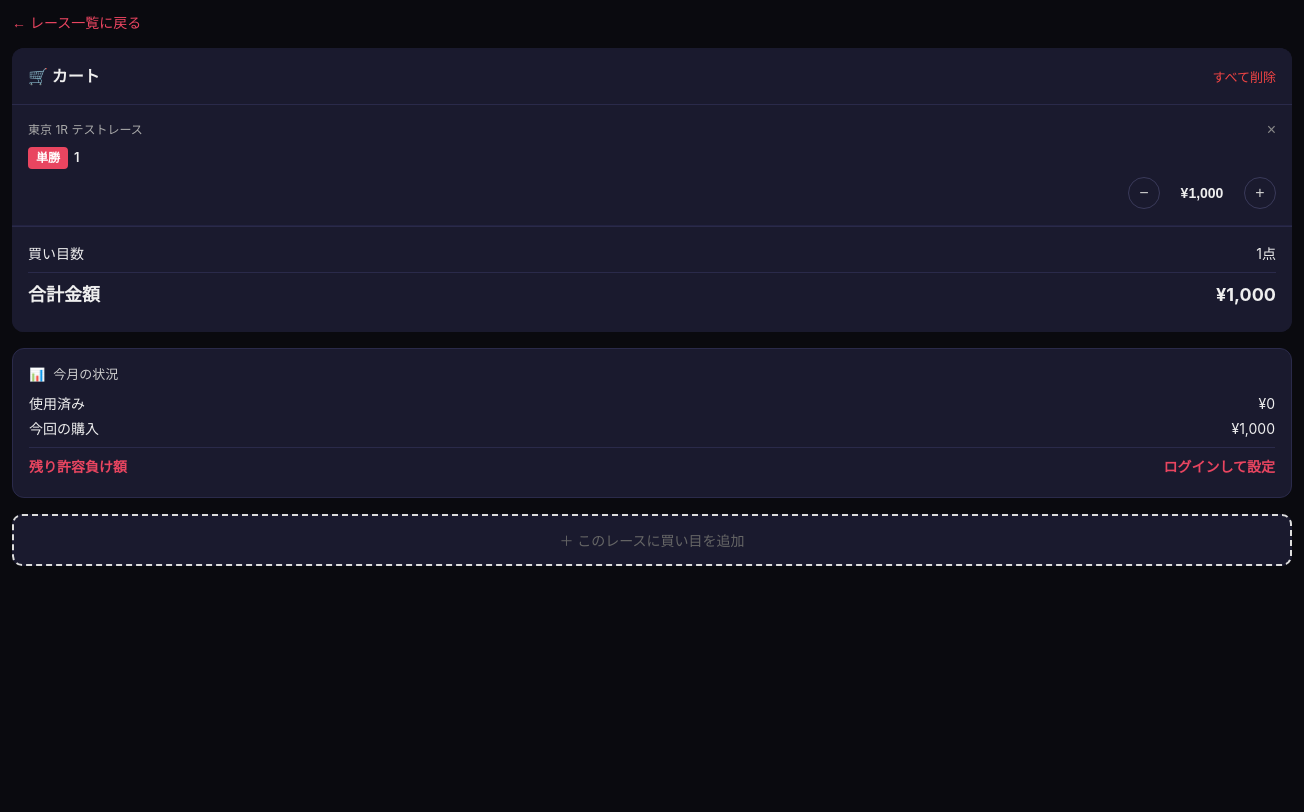
Test case: CartPage › 金額ステッパーUI › [−]ボタンで金額が100減る
Click the button named "金額を減らす" at (1144, 193), box [1128,177,1160,209]
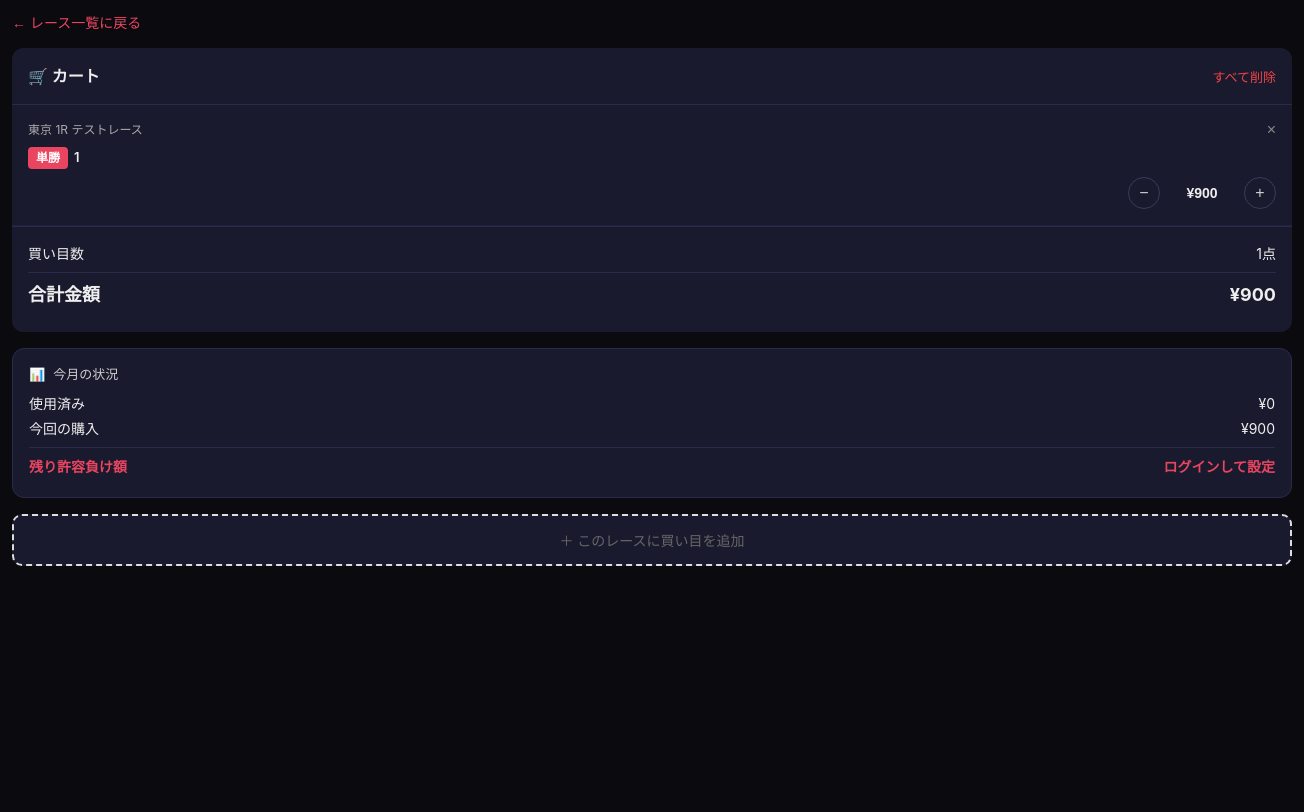
Expected: the button named "金額 900円 タップで編集" is shown, [1164,181,1240,205]
